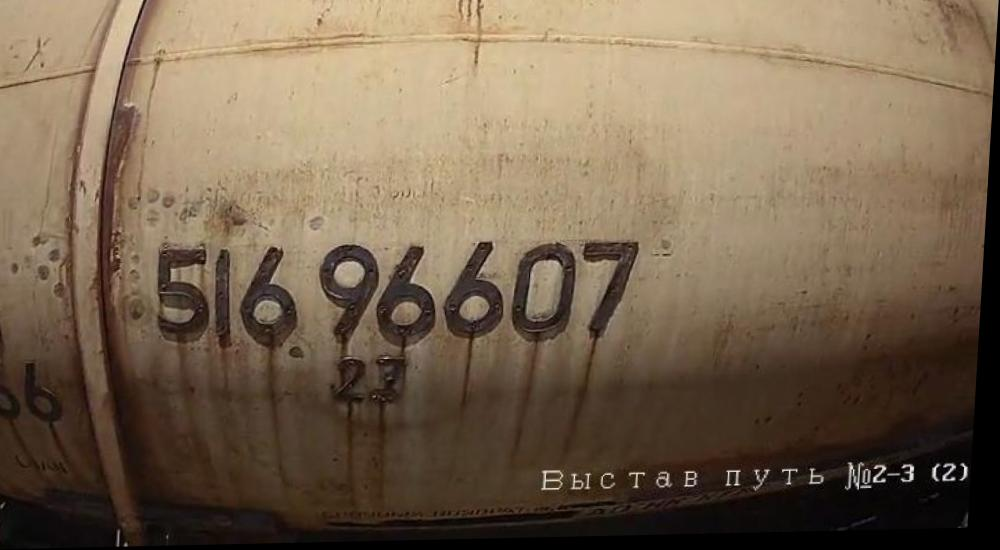Wagon-number: (149, 232, 650, 360)
